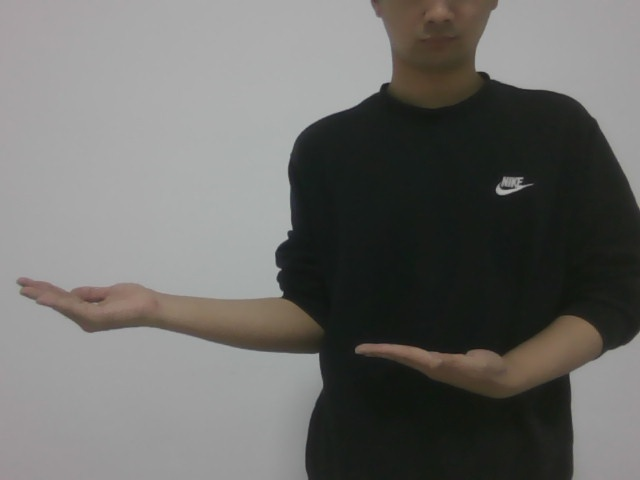please: (4, 254, 552, 423)
